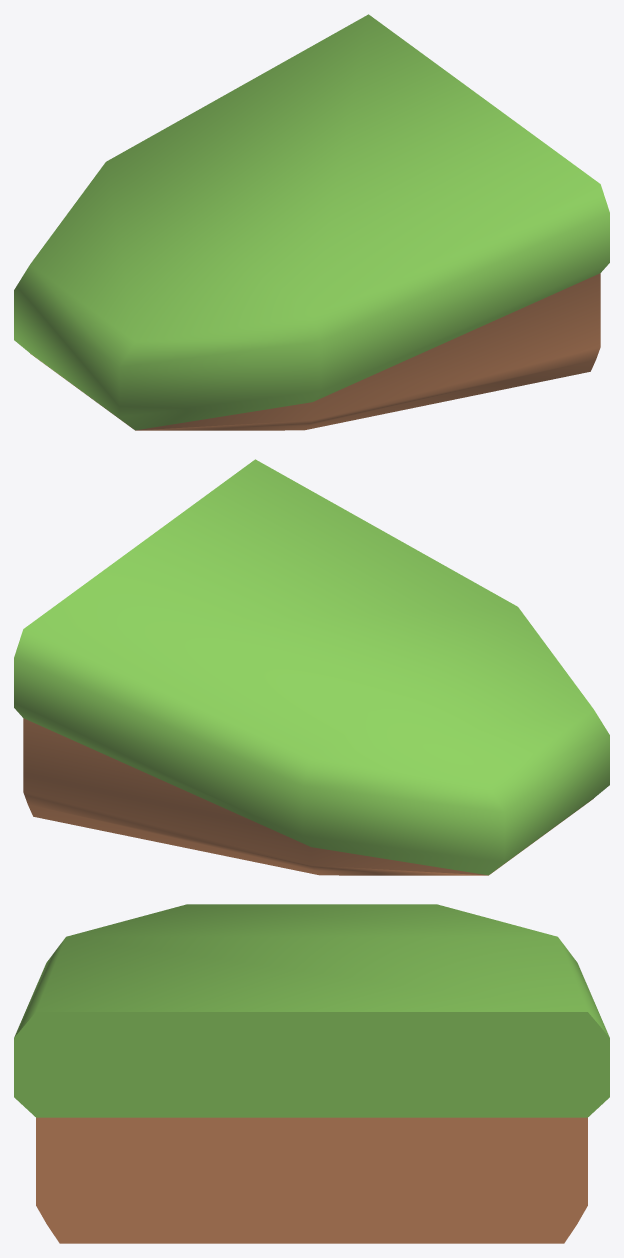
File: 05_slope_up_small_left.glb
3 renders of one model, top to bottom at view 1: azimuth 30°, elevation 25°; view 2: azimuth 150°, elevation 25°; view 3: azimuth 270°, elevation 25°, orthographic. The views are drawn at different scales.
Parts seen in each view (by area): view 1: 05_slope_up_small_left; view 2: 05_slope_up_small_left; view 3: 05_slope_up_small_left.
Boxes of the visible parts, left/top/right/bottom form: 05_slope_up_small_left: left=14, top=14, right=609, bottom=430; 05_slope_up_small_left: left=14, top=459, right=609, bottom=875; 05_slope_up_small_left: left=14, top=904, right=609, bottom=1243.
Bounding box in the file's own units: 0.52 × 0.2316 × 0.54.
